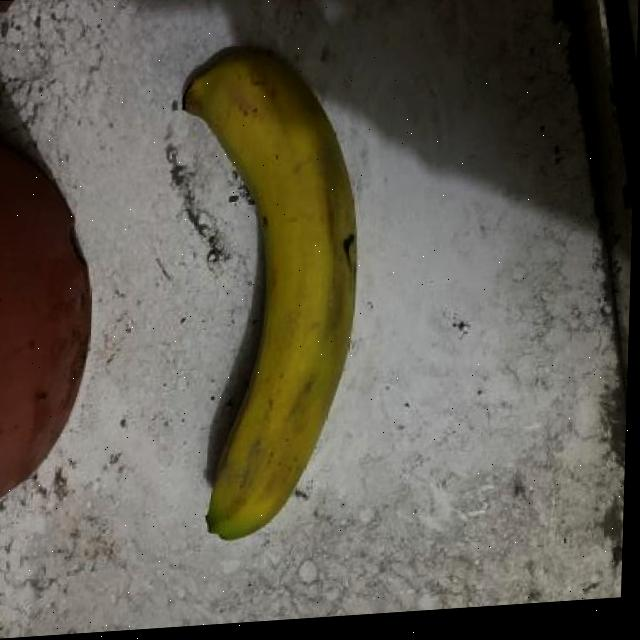banana: (161, 31, 372, 547)
